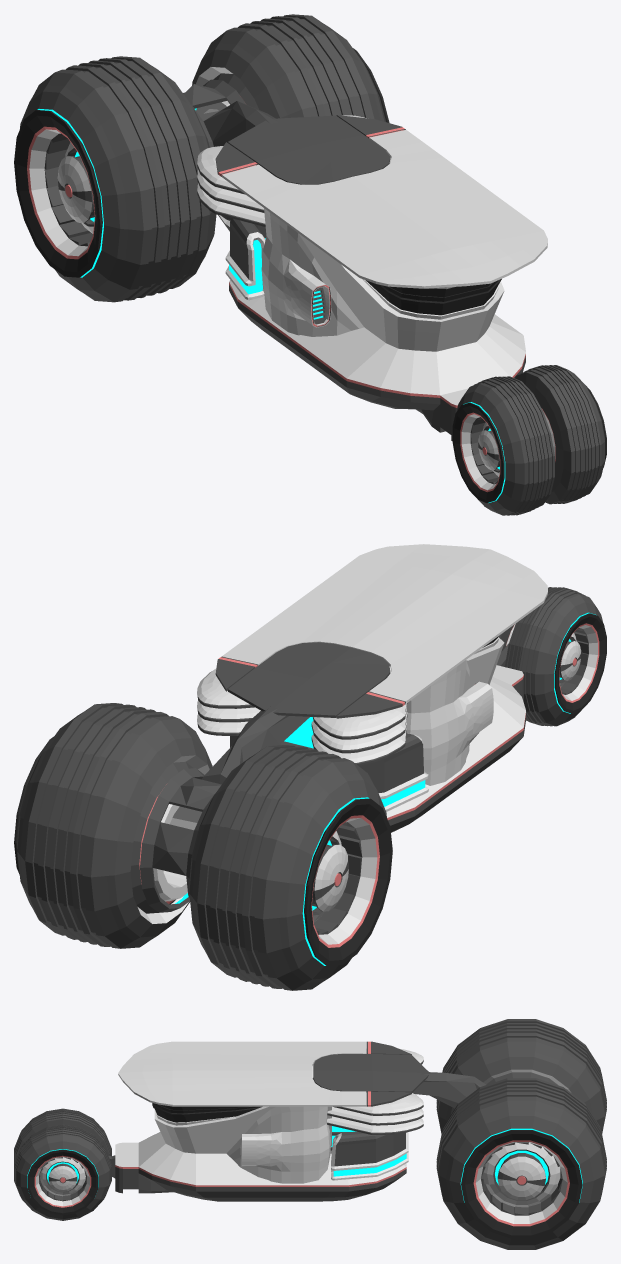
File: cyberpunk_car.glb
3 renders of one model, top to bottom at view 1: azimuth 30°, elevation 25°; view 2: azimuth 150°, elevation 25°; view 3: azimuth 270°, elevation 25°, orthographic. The views are drawn at different scales.
Visible parts, largest first — view 1: Plane; view 2: Plane; view 3: Plane.
Boxes of the visible parts, <box> form: Plane: <box>14,14,606,515</box>; Plane: <box>14,544,606,990</box>; Plane: <box>14,1019,606,1249</box>.
Size of the model in its own units: 476 by 336 by 1189.
